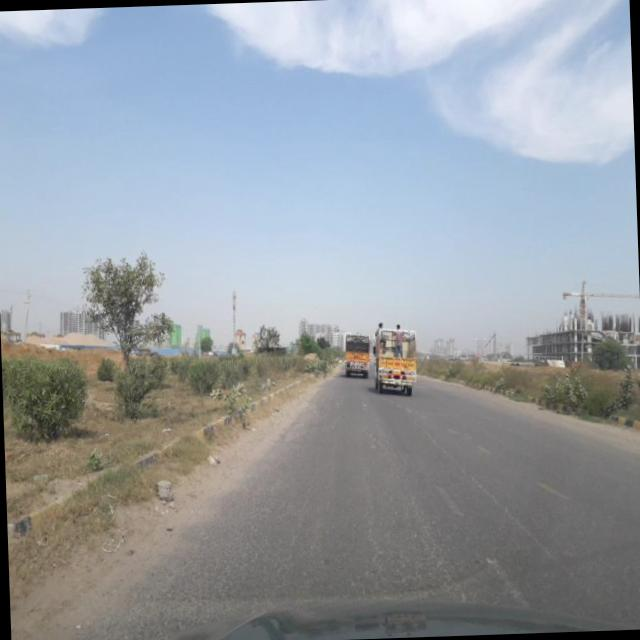crack: (158, 446, 627, 626), (408, 412, 594, 608)
